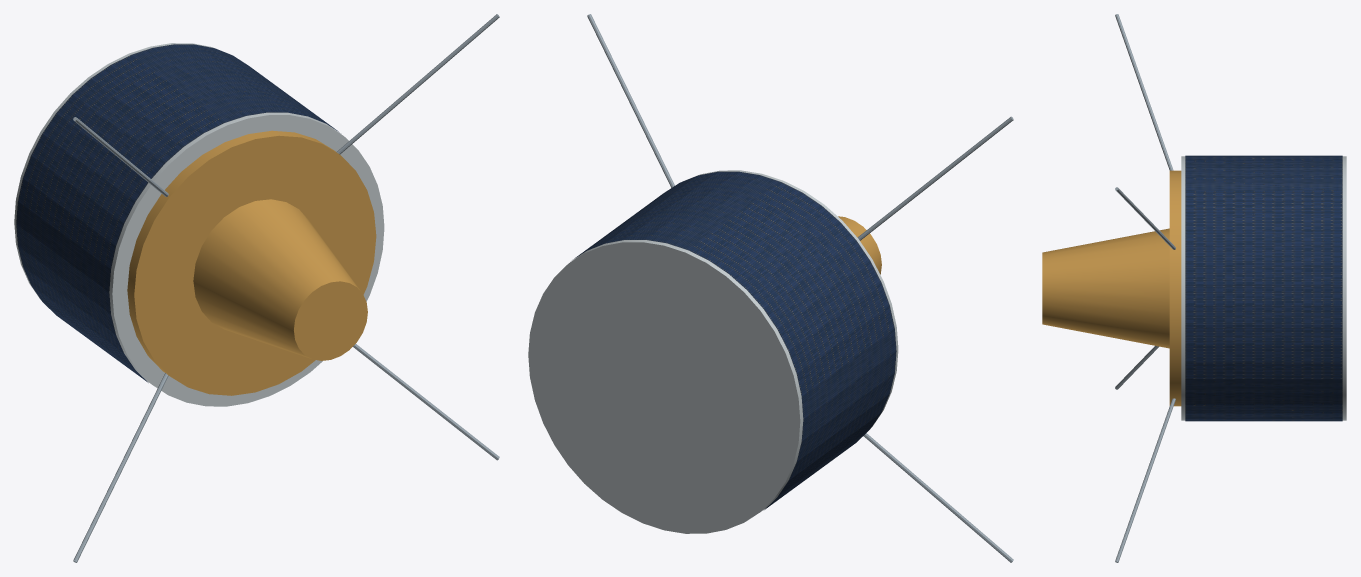
Rendered from ref-dfh-2-21833.glb.
3 views of the same model, side by side, from view 1: azimuth 30°, elevation 25°; view 2: azimuth 150°, elevation 25°; view 3: azimuth 270°, elevation 25° (orthographic). The views are drawn at different scales.
Parts seen in each view (by area): view 1: Body-mounted solar cells, Despun equipment deck, Axial antenna horn, Solar drum core, Whip antenna (×4); view 2: Solar drum core, Body-mounted solar cells, Whip antenna (×3), Axial antenna horn; view 3: Body-mounted solar cells, Axial antenna horn, Despun equipment deck, Solar drum core, Whip antenna (×2).
Part boxes in pixels (left/top/right/bottom): Body-mounted solar cells: left=16, top=44, right=339, bottom=382; Despun equipment deck: left=127, top=130, right=376, bottom=395; Axial antenna horn: left=193, top=199, right=367, bottom=360; Solar drum core: left=14, top=43, right=384, bottom=406; Whip antenna (×4): left=73, top=14, right=499, bottom=562; Solar drum core: left=528, top=170, right=898, bottom=533; Body-mounted solar cells: left=573, top=171, right=896, bottom=509; Whip antenna (×3): left=587, top=14, right=1013, bottom=562; Axial antenna horn: left=838, top=216, right=881, bottom=274; Body-mounted solar cells: left=1185, top=155, right=1342, bottom=421; Axial antenna horn: left=1042, top=228, right=1169, bottom=348; Despun equipment deck: left=1169, top=170, right=1181, bottom=406; Solar drum core: left=1181, top=156, right=1346, bottom=420; Whip antenna (×2): left=1115, top=14, right=1175, bottom=562.
Size of the model in its own units: 3.29 by 3.29 by 2.41.
Materials: 4 (1 with a texture image).
